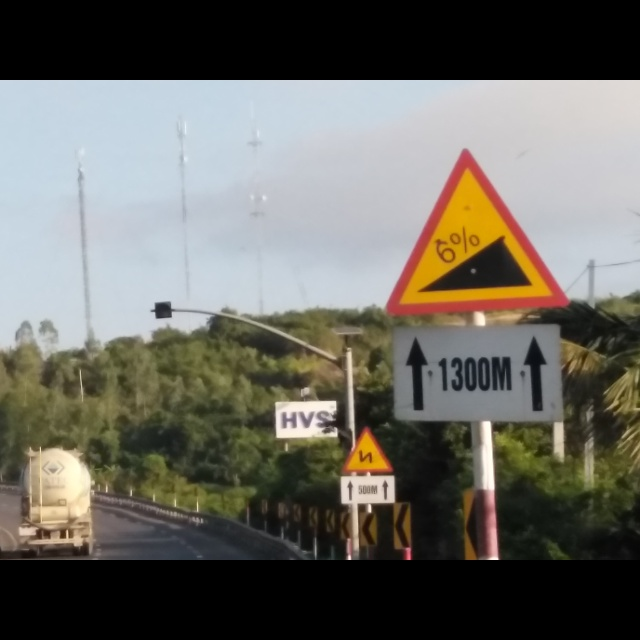Dốc lên nguy hiểm: (385, 147, 571, 320)
Ngoặt nguy hiểm liên tiếp bên phải: (338, 428, 391, 476)
